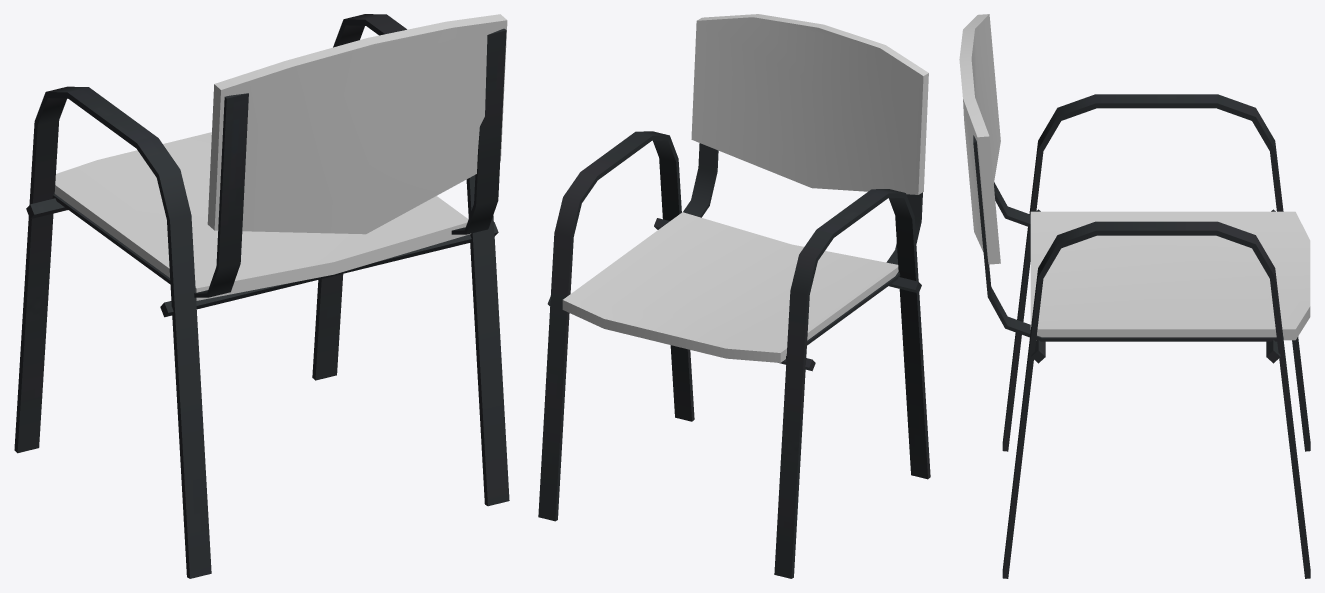
File: Chair_19.glb
3 renders of one model, left to right at view 1: azimuth 30°, elevation 25°; view 2: azimuth 150°, elevation 25°; view 3: azimuth 270°, elevation 25°, orthographic. The views are drawn at different scales.
Visible parts, largest first — view 1: Chair_19; view 2: Chair_19; view 3: Chair_19.
Boxes of the visible parts, x1=… form: Chair_19: x1=14, y1=14, x2=509, y2=578; Chair_19: x1=538, y1=14, x2=930, y2=578; Chair_19: x1=959, y1=14, x2=1310, y2=578.
Bounding box in the file's own units: 0.6055 × 0.9037 × 0.6364.
2 materials, 1 textured.
